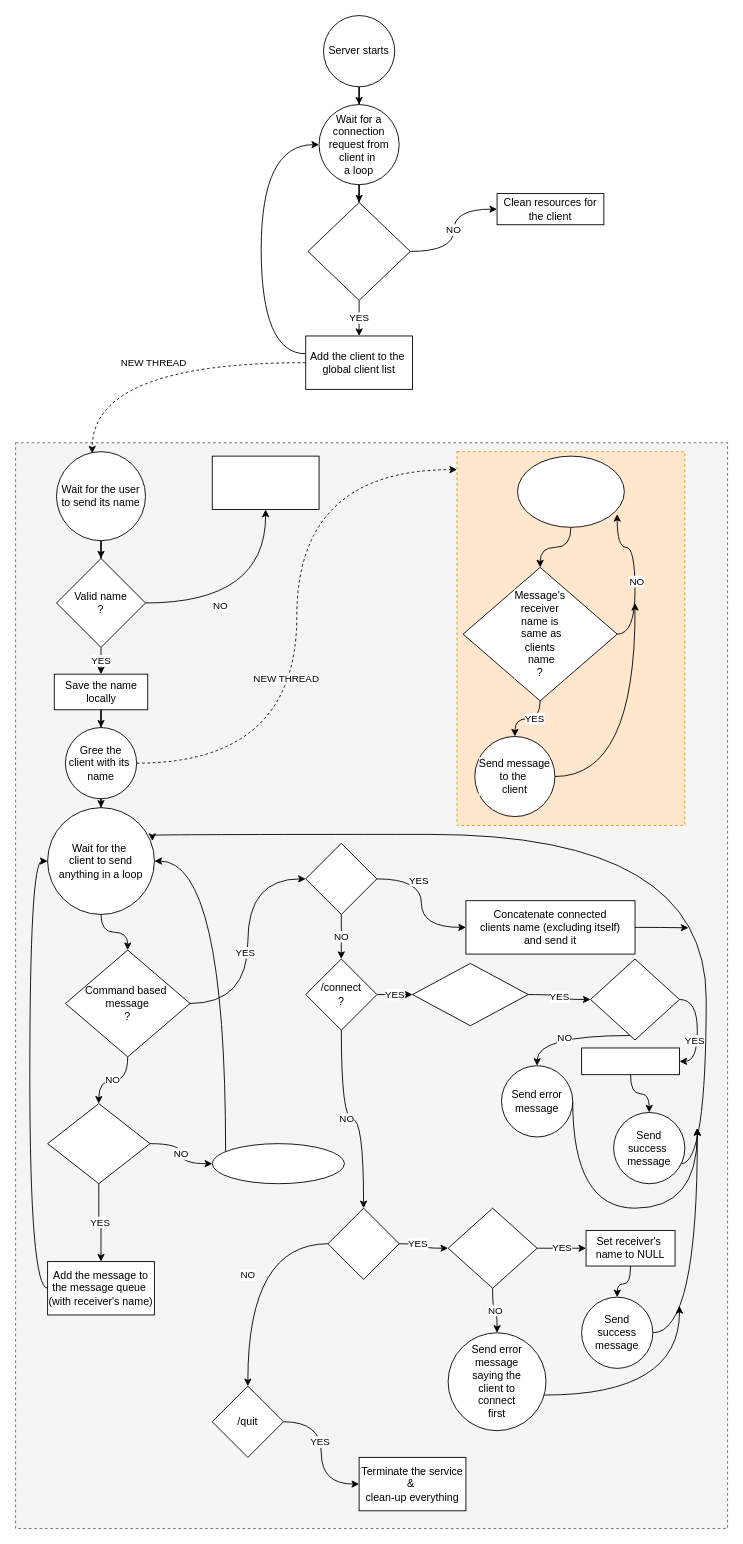
Some shapes in this 743 by 1544 pixel diagram are drawn without their labels. Here are the shapes that lost their labels. From the top down, the centre of each, then its label:
the point at 358,251: Connection established ?
the point at 265,482: Remove from the client list & inform the client then exit from the thread
the point at 570,491: Loop through the global message queue
the point at 341,878: /list ?
the point at 470,994: Valid receiver's name ?
the point at 635,999: Receiver connected ?
the point at 630,1061: Set receiver's name
the point at 98,1143: Is client connected to someone ?
the point at 277,1163: Ask client to connect to someone first
the point at 363,1243: /disconnect
the point at 492,1247: Receiver's name set ?
